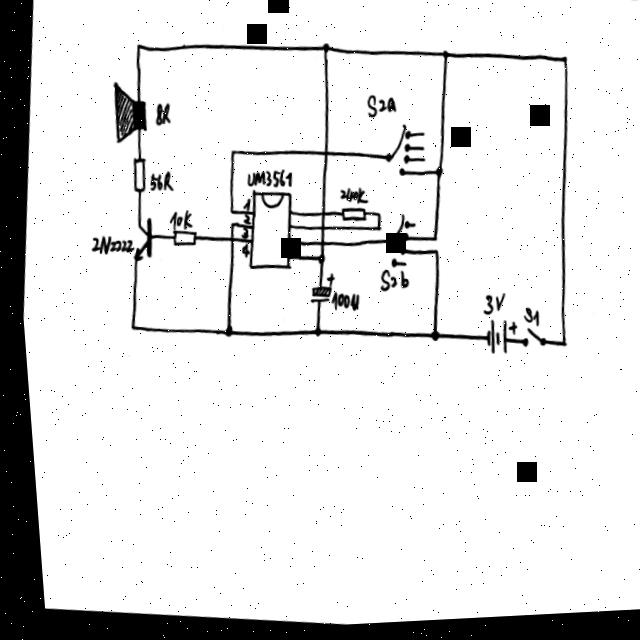capacitor: (304, 274, 329, 306)
crossover: (313, 241, 321, 250), (224, 236, 231, 245), (314, 226, 321, 234), (319, 151, 325, 160), (315, 212, 321, 220)
junction: (430, 169, 439, 181), (424, 333, 433, 345), (307, 328, 315, 339), (218, 327, 226, 338), (312, 255, 320, 265), (320, 45, 328, 55), (553, 343, 561, 353), (439, 54, 447, 63), (559, 59, 566, 69), (133, 42, 140, 51), (225, 221, 232, 230), (224, 209, 231, 217), (428, 251, 434, 260), (226, 149, 232, 158), (427, 238, 433, 246), (124, 323, 130, 331), (371, 227, 376, 235), (372, 214, 377, 221)
resistor: (127, 157, 143, 193), (336, 209, 362, 225), (167, 231, 192, 247)
source: (476, 321, 511, 361)
switch: (380, 124, 422, 181), (380, 215, 411, 272), (515, 331, 540, 354)
text: (241, 168, 289, 192), (86, 234, 131, 256), (577, 538, 600, 571), (373, 271, 403, 296), (363, 97, 394, 120), (324, 293, 353, 314), (145, 170, 169, 193), (335, 188, 364, 207), (164, 210, 188, 232), (477, 296, 499, 319), (515, 310, 535, 333), (152, 102, 169, 127), (236, 245, 245, 259), (238, 199, 246, 213), (236, 229, 244, 240), (238, 215, 246, 226)
transistor: (128, 218, 148, 262)
